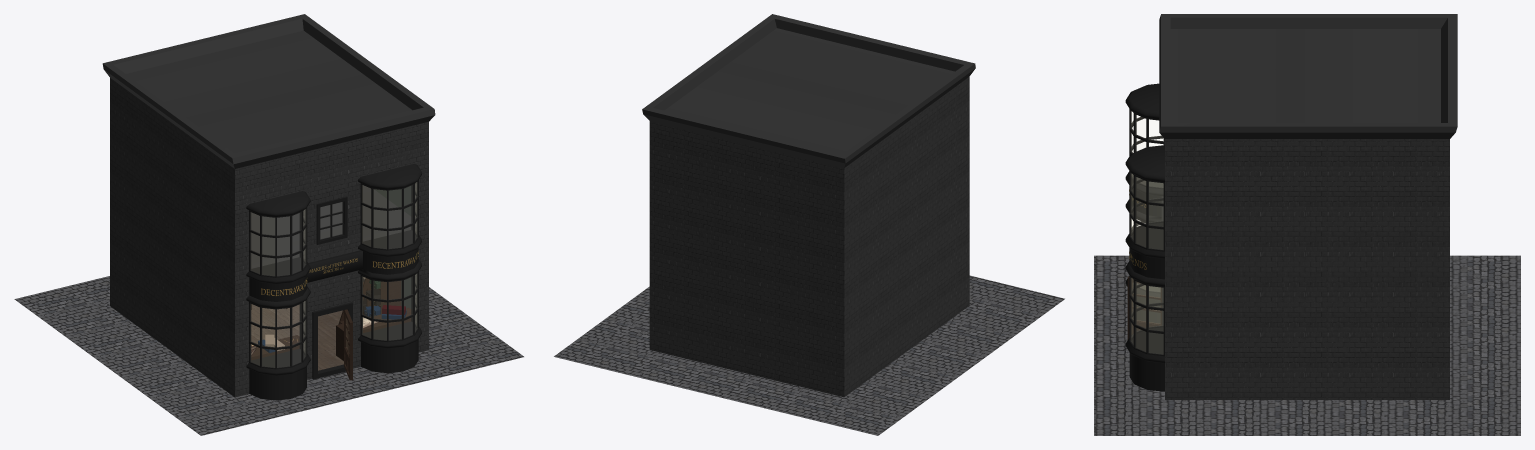
File: wandStoreWithoutAnimation.glb
3 renders of one model, left to right at view 1: azimuth 30°, elevation 25°; view 2: azimuth 150°, elevation 25°; view 3: azimuth 270°, elevation 25°, orthographic. The views are drawn at different scales.
Visible parts, largest first — view 1: Store, Ground, Shelves; view 2: Store, Ground; view 3: Store, Ground.
Boxes of the visible parts, <box> form: Store: <box>102,14,435,400</box>; Ground: <box>14,276,523,435</box>; Shelves: <box>251,277,411,360</box>; Store: <box>642,14,975,397</box>; Ground: <box>554,275,1064,435</box>; Store: <box>1125,14,1457,399</box>; Ground: <box>1094,255,1520,435</box>.
Size of what is drawn, in the model's own units: 16 by 11.42 by 16.
12 materials, 12 textured.
